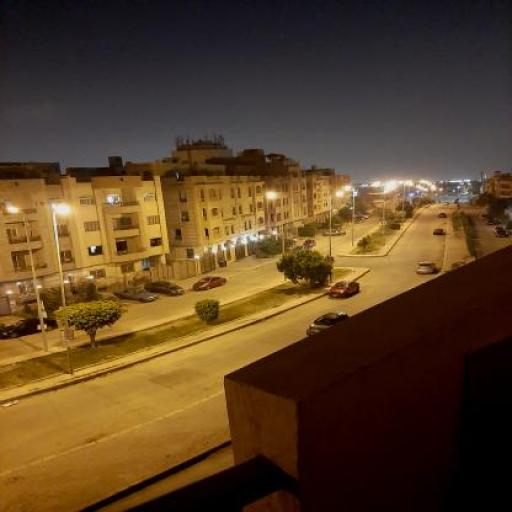street light: (6, 206, 49, 352), (52, 204, 76, 375), (266, 192, 287, 280), (328, 191, 344, 282), (380, 184, 394, 248), (343, 186, 355, 245), (402, 180, 412, 224)
